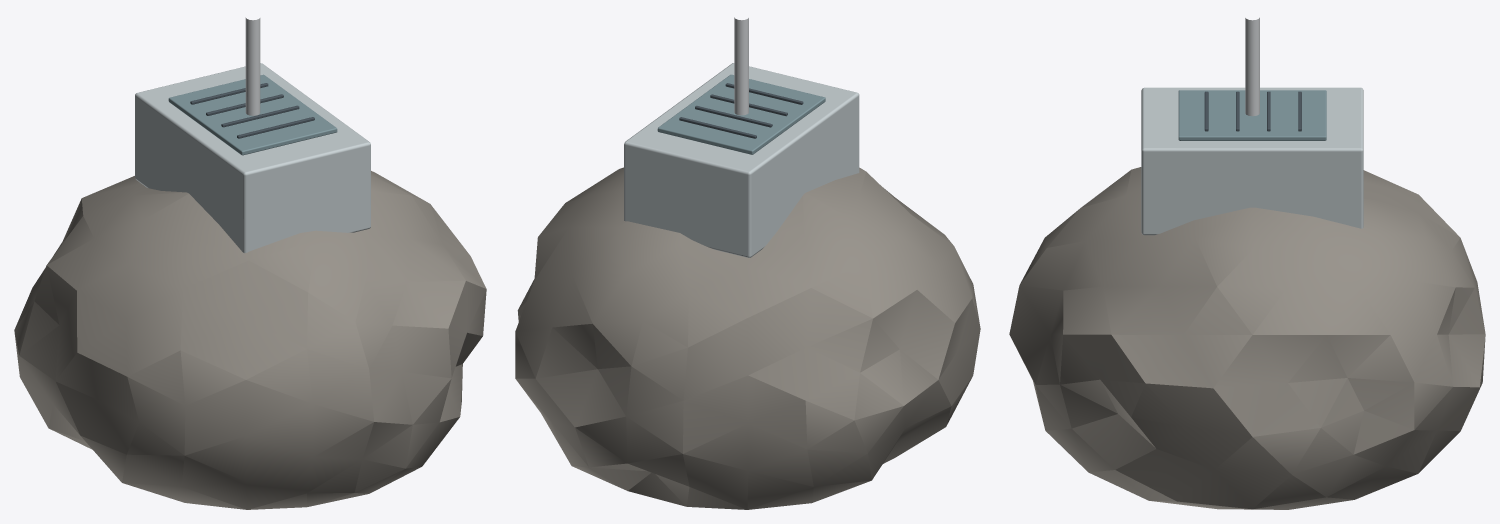
The picture shows the model from 3 angles, left to right: view 1: azimuth 30°, elevation 25°; view 2: azimuth 150°, elevation 25°; view 3: azimuth 270°, elevation 25°; orthographic projection.
Parts seen in each view (by area): view 1: asteroid-base; view 2: asteroid-base; view 3: asteroid-base.
Boxes of the visible parts, <box> form: asteroid-base: <box>14,17,486,509</box>; asteroid-base: <box>515,17,980,509</box>; asteroid-base: <box>1009,17,1485,509</box>.
Size of the model in its own units: 6.38 by 6.3 by 6.43.
